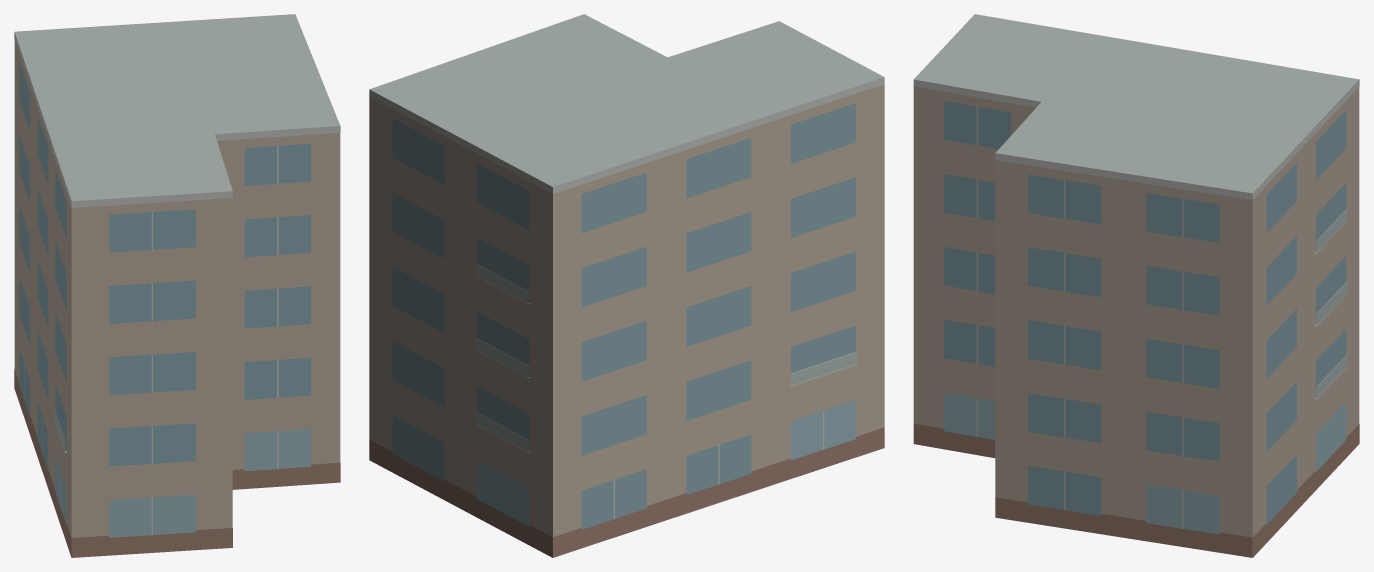
The model's file is survey-upis-32871852.glb.
3 renders of one model, left to right at view 1: azimuth 30°, elevation 25°; view 2: azimuth 150°, elevation 25°; view 3: azimuth 270°, elevation 25°, orthographic. The views are drawn at different scales.
Parts seen in each view (by area): view 1: survey-upis-32871852.tmp; view 2: survey-upis-32871852.tmp; view 3: survey-upis-32871852.tmp.
Part boxes in pixels (box(x1,y1,x2,y2)): survey-upis-32871852.tmp: box(14, 14, 340, 557); survey-upis-32871852.tmp: box(369, 14, 884, 557); survey-upis-32871852.tmp: box(913, 14, 1359, 557).
Bounding box in the file's own units: 13.52 × 12.8 × 14.2.
